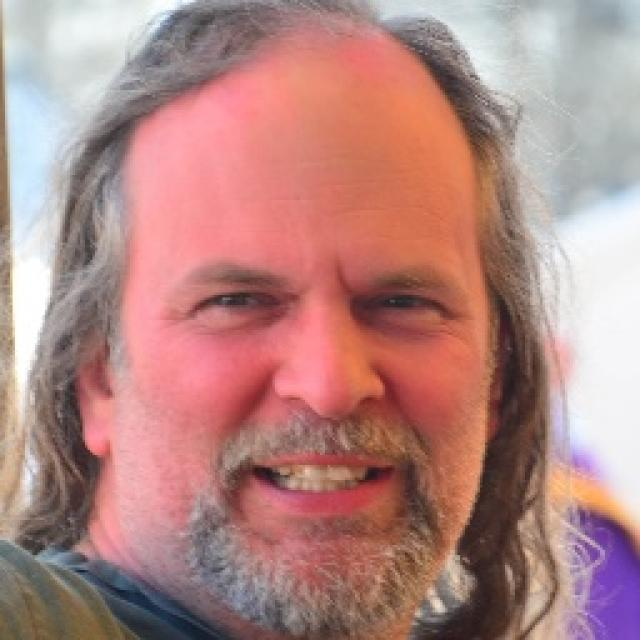earlobe: (79, 399, 116, 457), (486, 394, 504, 442)
eye: (194, 284, 277, 312), (366, 290, 440, 314)
nose: (274, 391, 379, 444)
wholeear: (70, 314, 115, 457), (486, 321, 519, 441)
